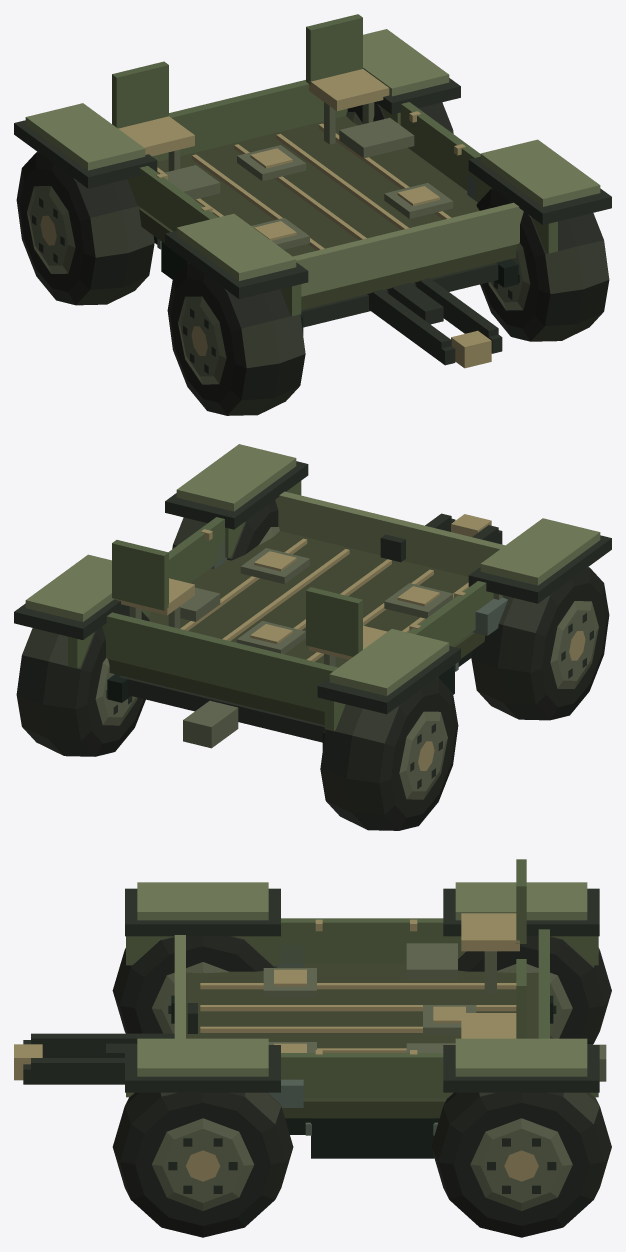
Rendered from wagon_anti_air.obj.
The picture shows the model from 3 angles, top to bottom: view 1: azimuth 30°, elevation 25°; view 2: azimuth 150°, elevation 25°; view 3: azimuth 270°, elevation 25°; orthographic projection. The views are drawn at different scales.
Visible parts, largest first — view 1: WagonDeck.005, AllTerrainTire.020, AllTerrainTire.022, AllTerrainTire.021, DrawbarFrame.005, AllTerrainTire.023; view 2: WagonDeck.005, AllTerrainTire.022, AllTerrainTire.020, AllTerrainTire.023, AllTerrainTire.021, WagonDetails_anti_air, DrawbarFrame.005; view 3: WagonDeck.005, AllTerrainTire.023, AllTerrainTire.021, AllTerrainTire.020, AllTerrainTire.022, DrawbarFrame.005, WagonDetails_anti_air.
Boxes of the visible parts, <box> form: WagonDeck.005: <box>14,14,611,353</box>; AllTerrainTire.020: <box>167,262,305,415</box>; AllTerrainTire.022: <box>16,152,154,305</box>; AllTerrainTire.021: <box>476,188,609,341</box>; DrawbarFrame.005: <box>369,304,502,368</box>; AllTerrainTire.023: <box>346,102,453,133</box>; WagonDeck.005: <box>14,444,611,749</box>; AllTerrainTire.022: <box>320,677,458,830</box>; AllTerrainTire.020: <box>471,567,609,720</box>; AllTerrainTire.023: <box>16,606,149,756</box>; AllTerrainTire.021: <box>172,500,279,560</box>; WagonDetails_anti_air: <box>211,534,507,635</box>; DrawbarFrame.005: <box>441,514,502,544</box>; WagonDeck.005: <box>31,859,606,1158</box>; AllTerrainTire.023: <box>431,1092,611,1237</box>; AllTerrainTire.021: <box>112,1092,293,1237</box>; AllTerrainTire.020: <box>112,936,276,1033</box>; AllTerrainTire.022: <box>458,936,611,1044</box>; DrawbarFrame.005: <box>14,1040,124,1084</box>; WagonDetails_anti_air: <box>187,945,303,1107</box>.
Size of the model in its own units: 4.48 by 2.45 by 5.82.
Materials: 1 (1 with a texture image).
